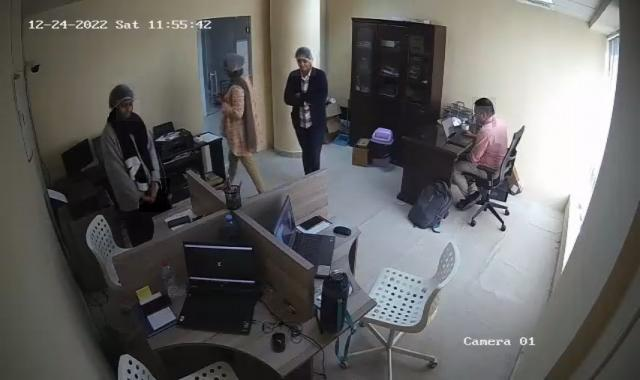gloves: (110, 84, 136, 119), (222, 51, 248, 80), (294, 46, 316, 74)
no_apron: (140, 178, 171, 212), (460, 123, 482, 143), (210, 93, 226, 108)
no_gloves: (472, 97, 496, 128)
no_hairnet: (116, 101, 140, 122), (473, 106, 492, 129), (292, 58, 316, 76)
